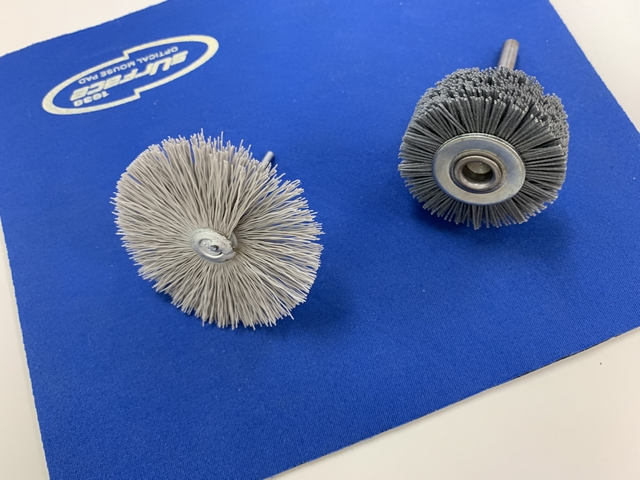TOOL: (97, 123, 334, 346)
Wheel Brush: (391, 14, 606, 245)
